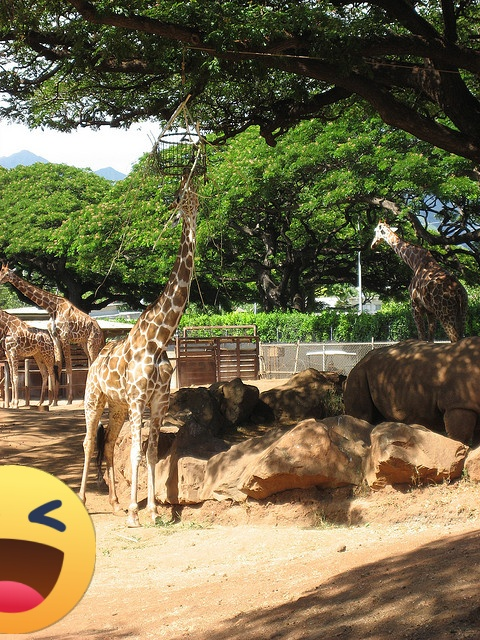haha: (0, 465, 96, 634)
